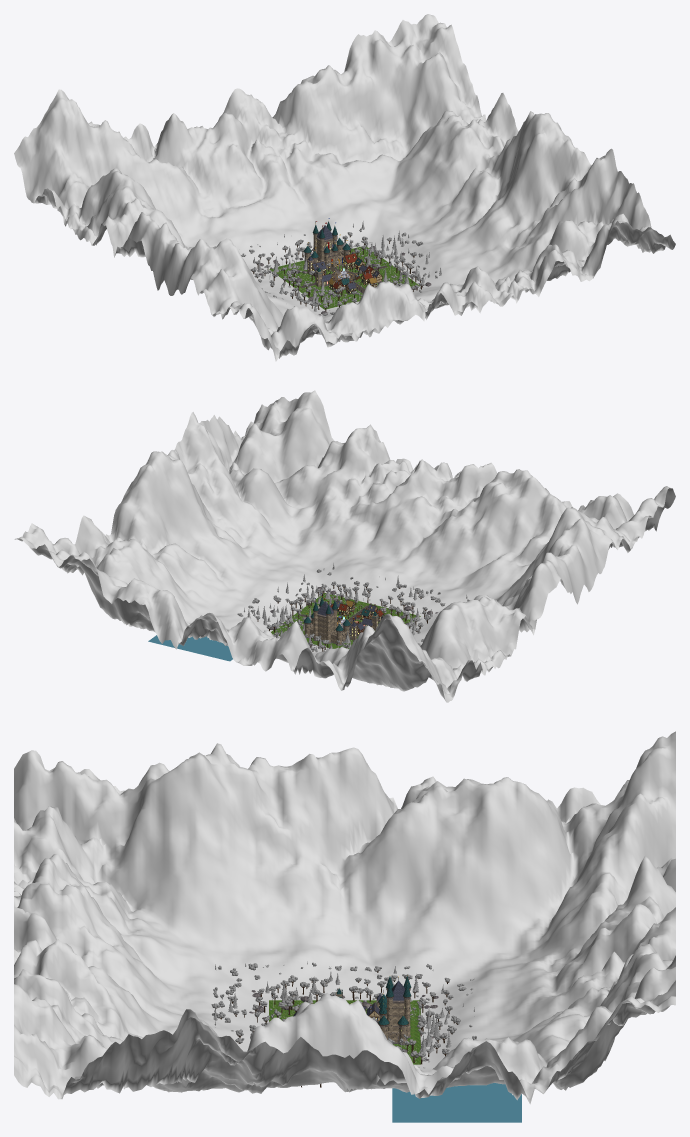
Rendered from lobby_world.glb.
3 renders of one model, top to bottom at view 1: azimuth 30°, elevation 25°; view 2: azimuth 150°, elevation 25°; view 3: azimuth 270°, elevation 25°, orthographic. The views are drawn at different scales.
Visible parts, largest first — view 1: Terrain, Ground, Castle; view 2: Terrain, Castle, Ground, Lake; view 3: Terrain, Lake, Castle, Ground, NatureChunk_0_1, NatureChunk_-2_-2.
Boxes of the visible parts, box(x1,y1,x2,y2) form: Terrain: box(14, 14, 675, 361); Ground: box(269, 246, 419, 309); Castle: box(303, 218, 343, 266); Terrain: box(14, 390, 675, 702); Castle: box(303, 593, 346, 645); Ground: box(271, 593, 420, 648); Lake: box(148, 635, 232, 661); Terrain: box(14, 731, 675, 1104); Lake: box(392, 1083, 521, 1122); Castle: box(385, 975, 411, 1045); Ground: box(269, 1000, 420, 1064); NatureChunk_0_1: box(399, 1014, 447, 1052); NatureChunk_-2_-2: box(251, 975, 297, 1010).
Bounding box in the file's own units: 460 × 149 × 460.
38 materials, 17 textured.
